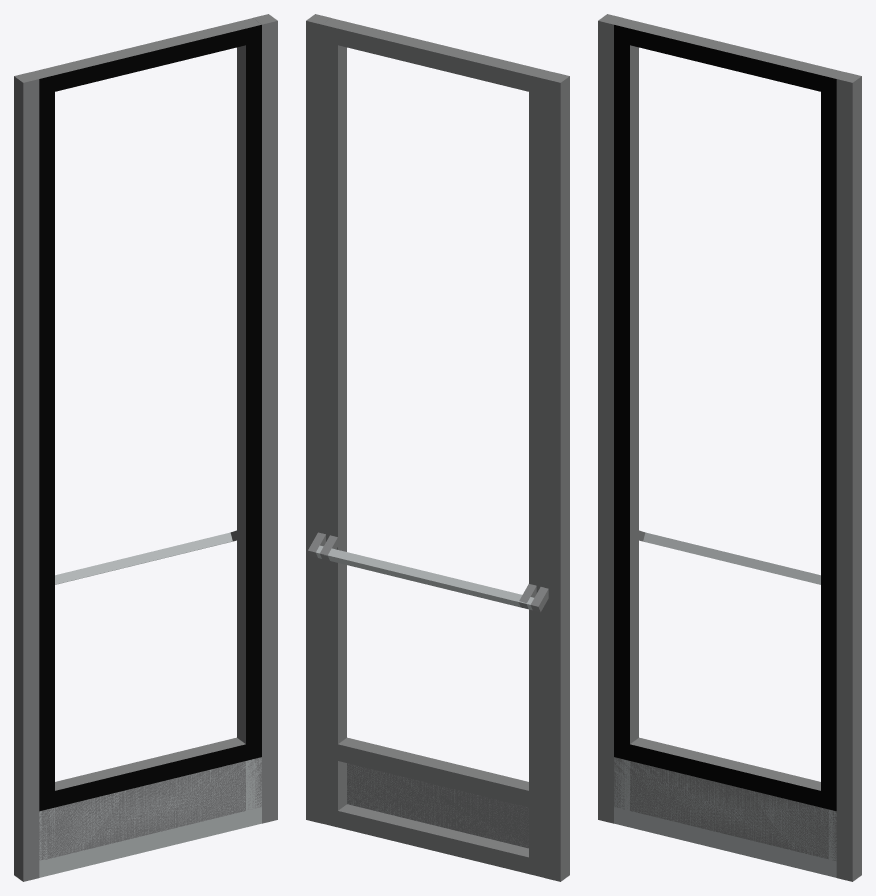
Rendered from brtduanmen.obj.
3 renders of one model, left to right at view 1: azimuth 30°, elevation 25°; view 2: azimuth 150°, elevation 25°; view 3: azimuth 330°, elevation 25°, orthographic.
Parts seen in each view (by area): view 1: door_left, door_right, main_right, main_left; view 2: door_right, door_left, main_right, main_left; view 3: door_right, door_left, main_left, main_right.
Boxes of the visible parts, <box> form: door_left: <box>31,21,261,873</box>; door_right: <box>30,18,261,877</box>; main_right: <box>14,72,39,881</box>; main_left: <box>253,14,277,823</box>; door_right: <box>308,18,552,877</box>; door_left: <box>320,18,553,877</box>; main_right: <box>544,72,569,881</box>; main_left: <box>306,14,330,823</box>; door_right: <box>614,18,845,877</box>; door_left: <box>614,18,844,877</box>; main_left: <box>836,72,861,881</box>; main_right: <box>598,14,622,823</box>.
Bounding box in the file's own units: 1 × 3 × 0.1326.
